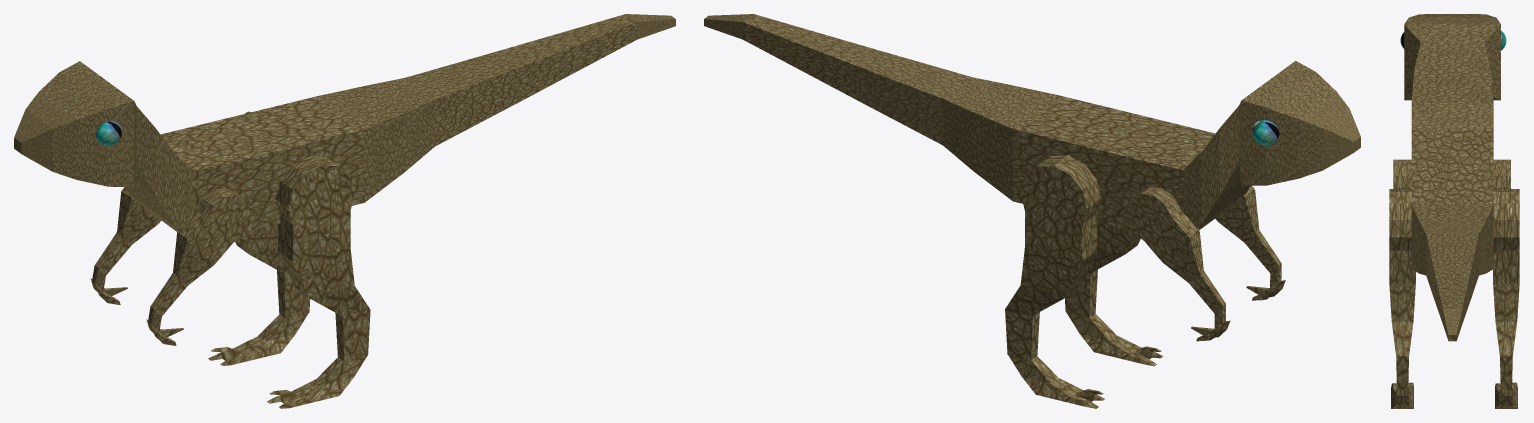
File: raptor.obj
3 renders of one model, left to right at view 1: azimuth 30°, elevation 25°; view 2: azimuth 150°, elevation 25°; view 3: azimuth 270°, elevation 25°, orthographic. The views are drawn at different scales.
Parts seen in each view (by area): view 1: Plane, Cylinder, Cylinder.002, Cylinder.001_Cylinder.005, Cylinder.003_Cylinder.004; view 2: Plane, Cylinder.001_Cylinder.005, Cylinder.003_Cylinder.004, Cylinder, Cylinder.002; view 3: Plane, Cylinder.001_Cylinder.005, Cylinder, Cylinder.002, Cylinder.003_Cylinder.004.
Boxes of the visible parts, x1,y1,x2,y2 form: Plane: (14,14,675,231); Cylinder: (267,156,370,408); Cylinder.002: (146,188,251,345); Cylinder.001_Cylinder.005: (208,111,310,365); Cylinder.003_Cylinder.004: (90,187,161,304); Plane: (704,14,1360,230); Cylinder.001_Cylinder.005: (1005,155,1104,408); Cylinder.003_Cylinder.004: (1126,186,1230,341); Cylinder: (1065,222,1163,366); Cylinder.002: (1215,185,1285,300); Plane: (1404,14,1500,341); Cylinder.001_Cylinder.005: (1493,189,1519,408); Cylinder: (1389,189,1415,408); Cylinder.002: (1393,159,1411,188); Cylinder.003_Cylinder.004: (1493,159,1510,188).
Bounding box in the file's own units: 4.33 × 2.13 × 0.8419.
